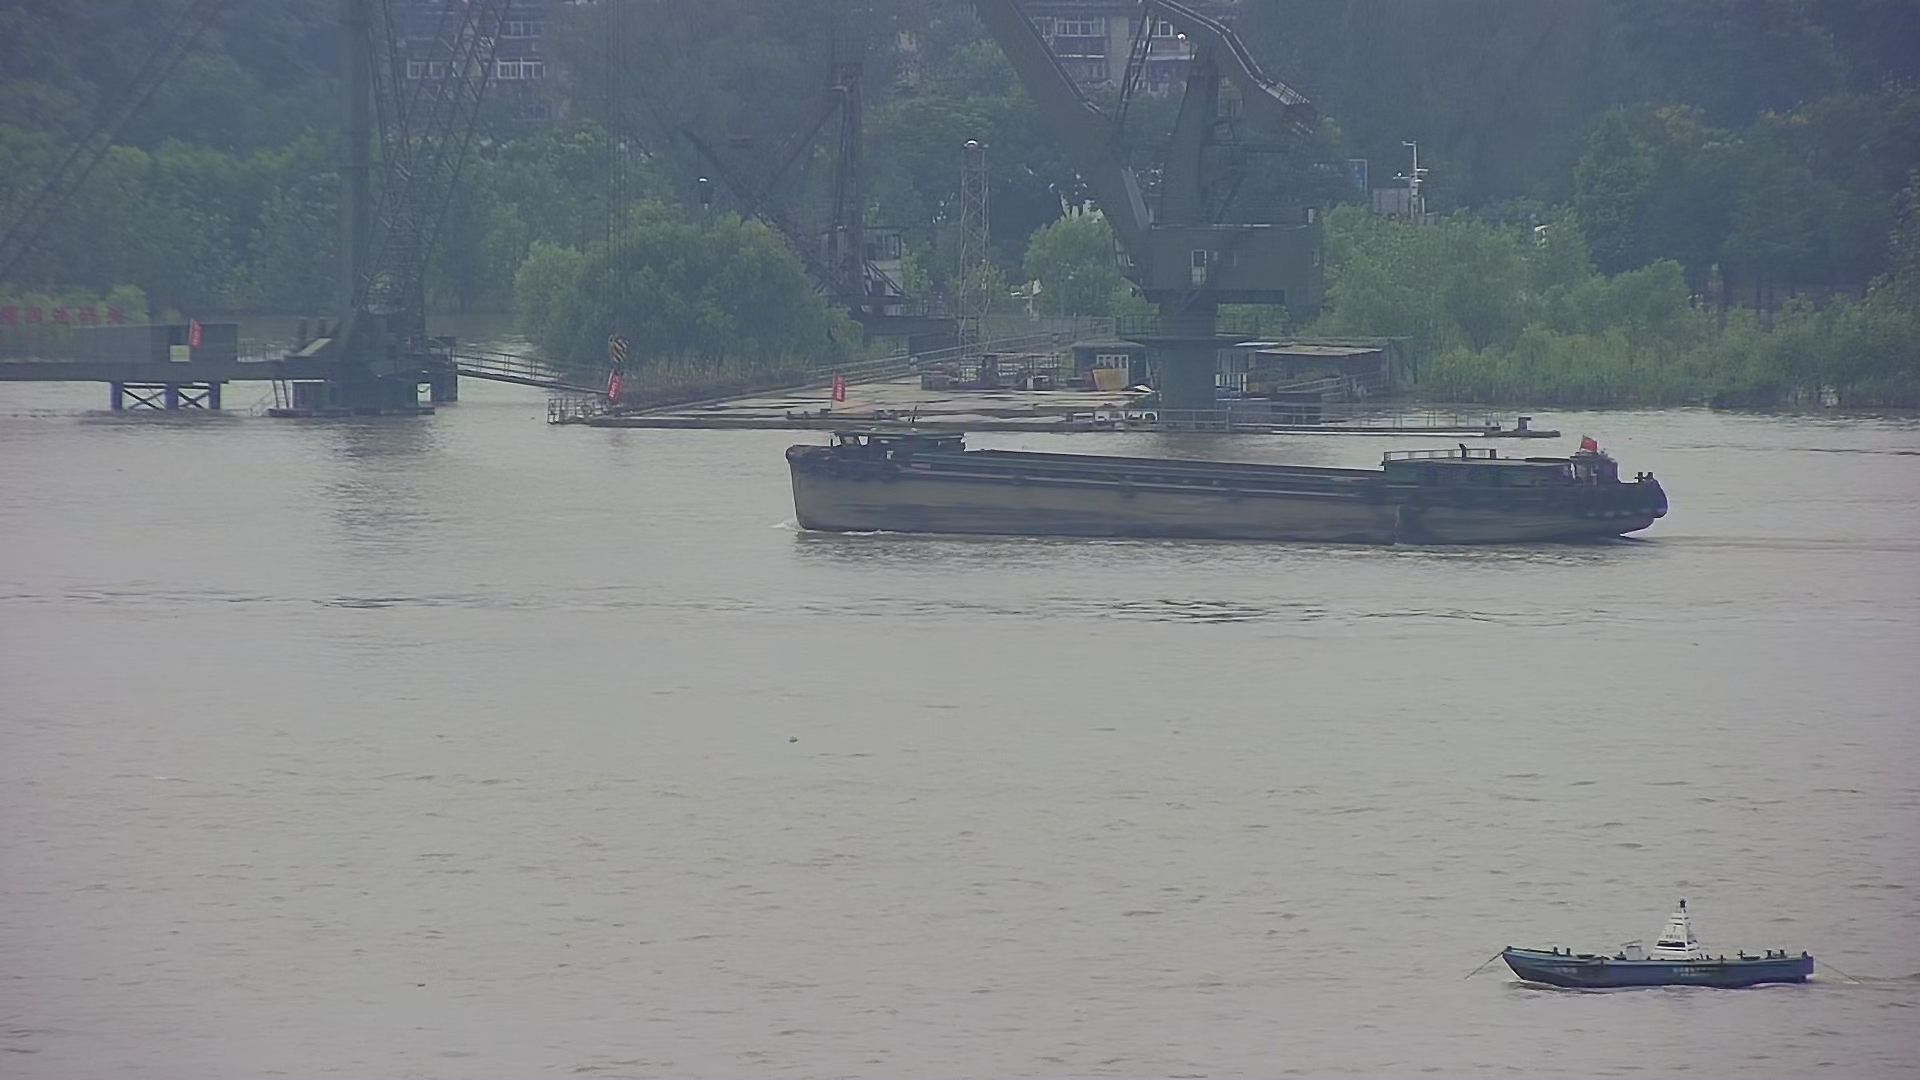boat: (1491, 872, 1826, 998)
platform: (1, 1, 495, 429)
ship: (767, 415, 1685, 559)
